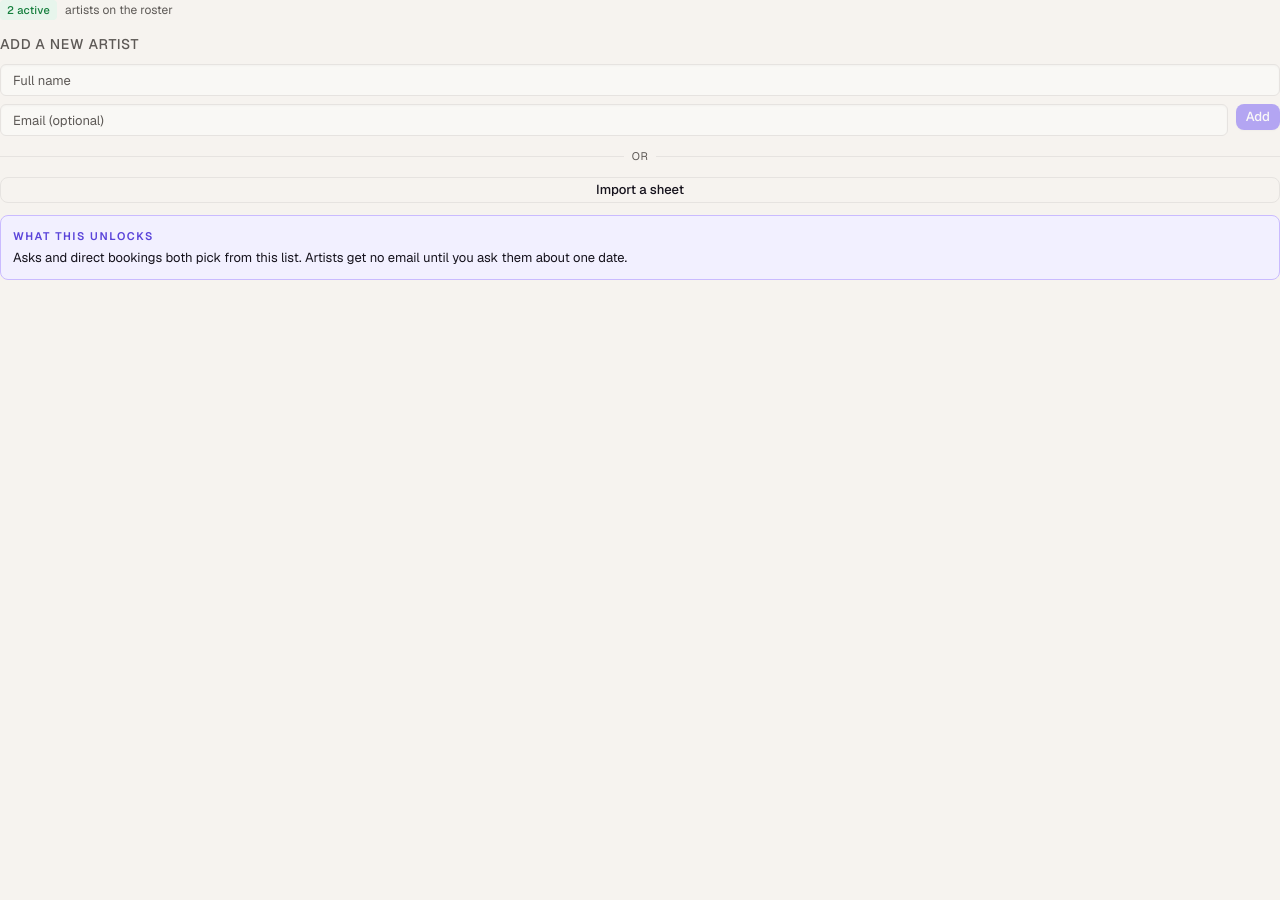
PeoplePanelBody › reveals the import dialog instead of navigating to the artists page
This screenshot has width=1280, height=900.
What coordinates should you click on to do the following:
click the button "Import a sheet"
I would click on:
 (640, 190)
Its box is [0,176,1279,202].
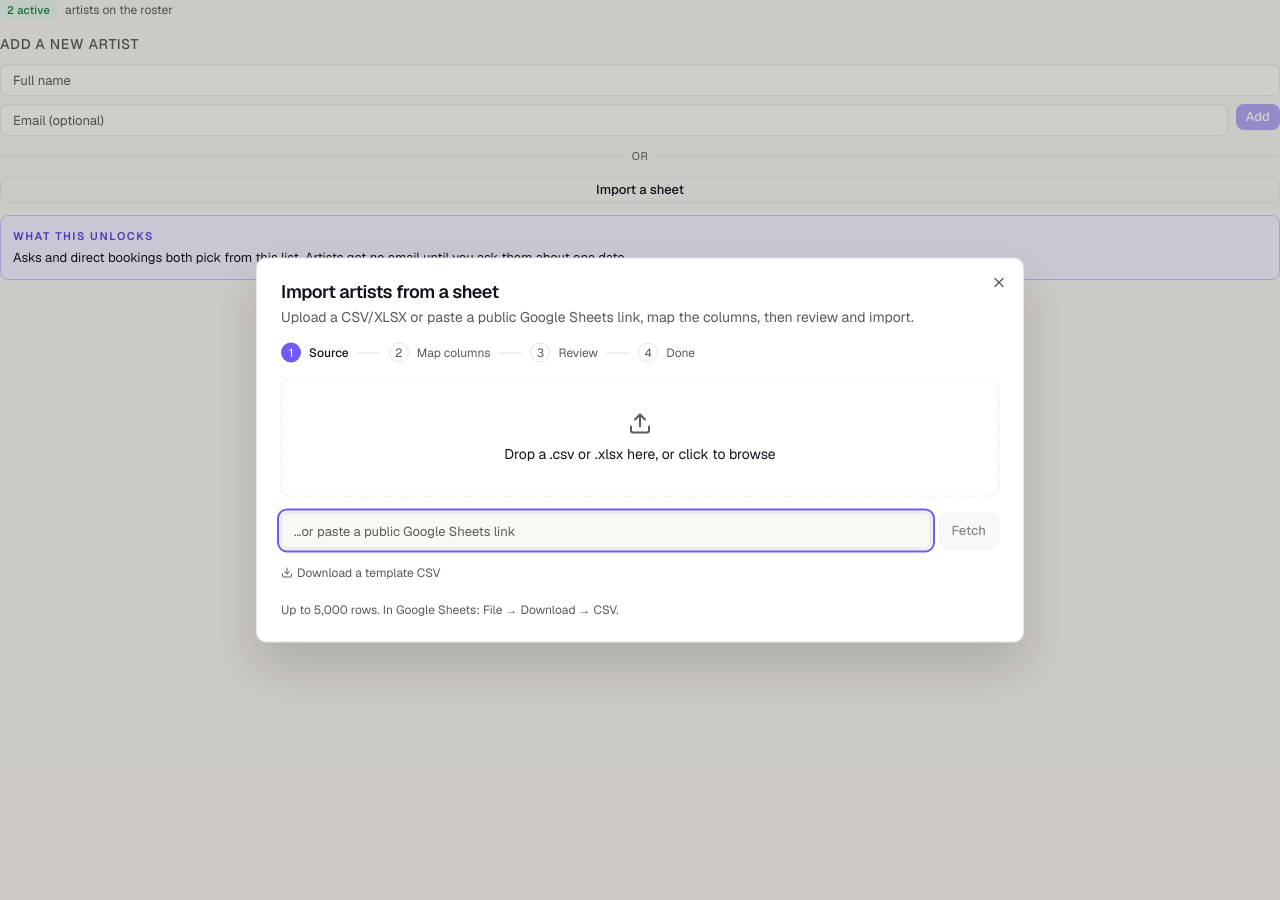
Expected: the dialog is shown, [256,258,1024,642]
